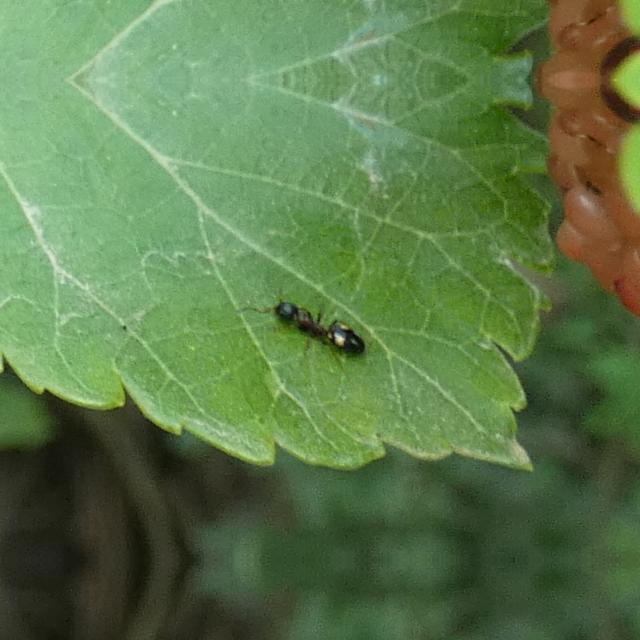Dolichoderus: (248, 284, 386, 366)
